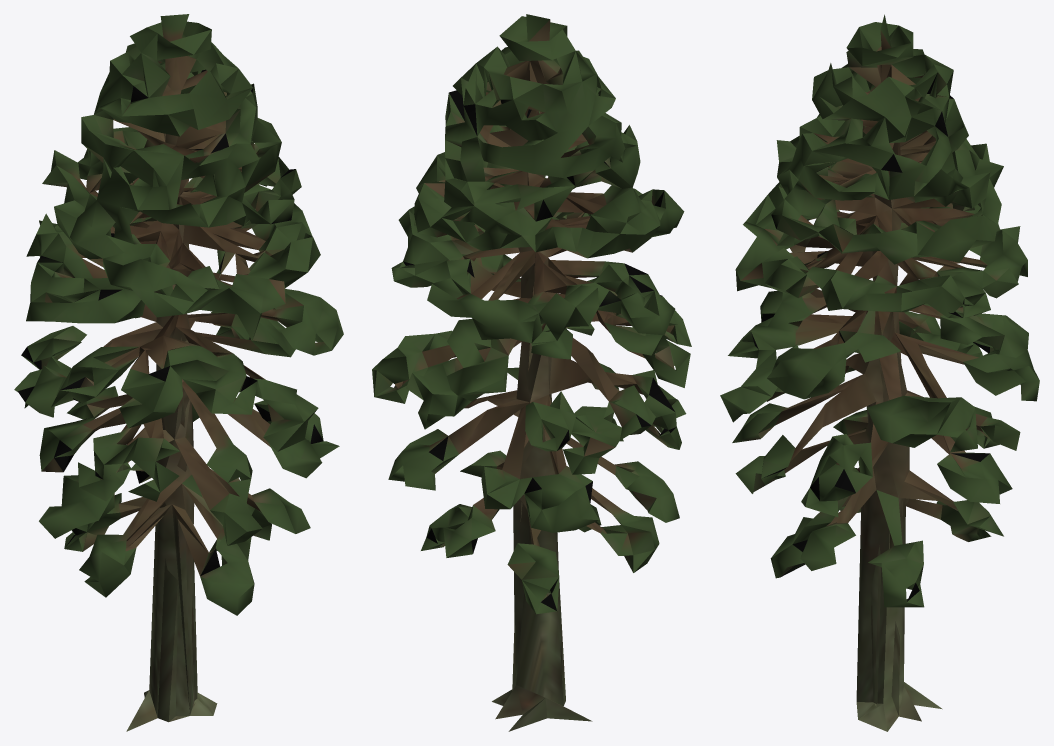
3 renders of one model, left to right at view 1: azimuth 30°, elevation 25°; view 2: azimuth 150°, elevation 25°; view 3: azimuth 270°, elevation 25°, orthographic.
Visible parts, largest first — view 1: ValleyPine.001; view 2: ValleyPine.001; view 3: ValleyPine.001.
Part boxes in pixels (bbox=[...]): ValleyPine.001: bbox=[14, 14, 343, 731]; ValleyPine.001: bbox=[372, 14, 691, 731]; ValleyPine.001: bbox=[720, 14, 1039, 731].
Size of the model in its own units: 3.97 by 9.88 by 4.15.
Materials: 1 (1 with a texture image).
